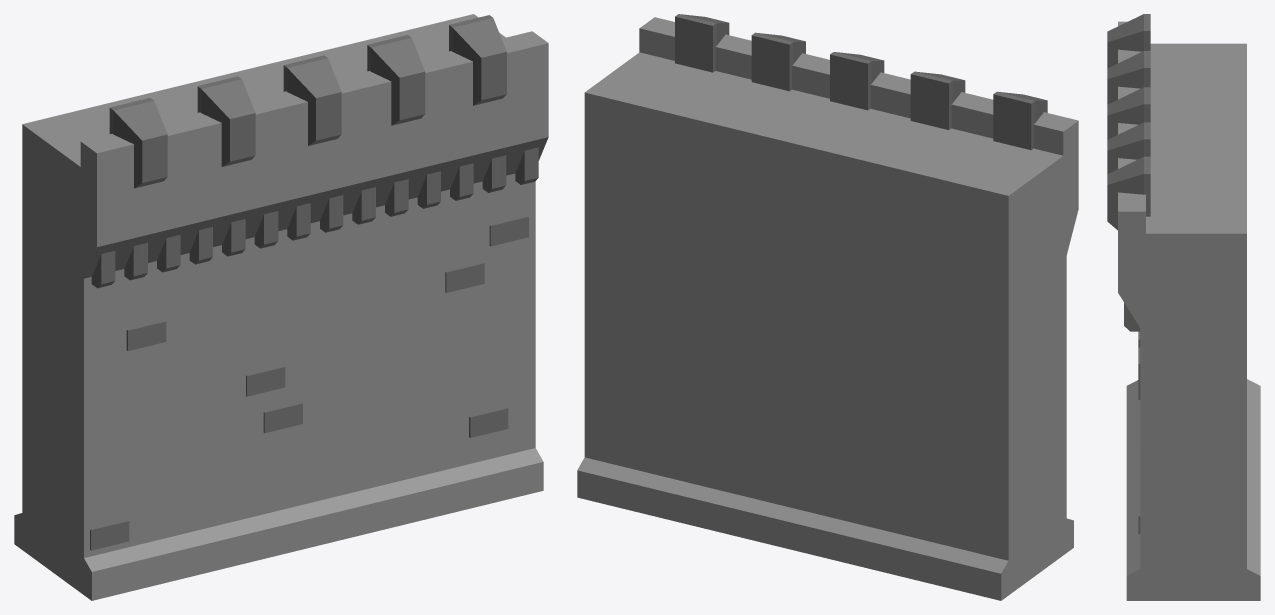
The model's file is kit-castle-wall.glb.
3 renders of one model, left to right at view 1: azimuth 30°, elevation 25°; view 2: azimuth 150°, elevation 25°; view 3: azimuth 270°, elevation 25°, orthographic. The views are drawn at different scales.
Parts seen in each view (by area): view 1: Cube.172; view 2: Cube.172; view 3: Cube.172.
Part boxes in pixels (left/top/right/bottom): Cube.172: left=14, top=14, right=548, bottom=600; Cube.172: left=577, top=14, right=1078, bottom=600; Cube.172: left=1107, top=14, right=1260, bottom=600.
Size of the model in its own units: 7.16 by 7.2 by 2.43.
1 material, 1 textured.
